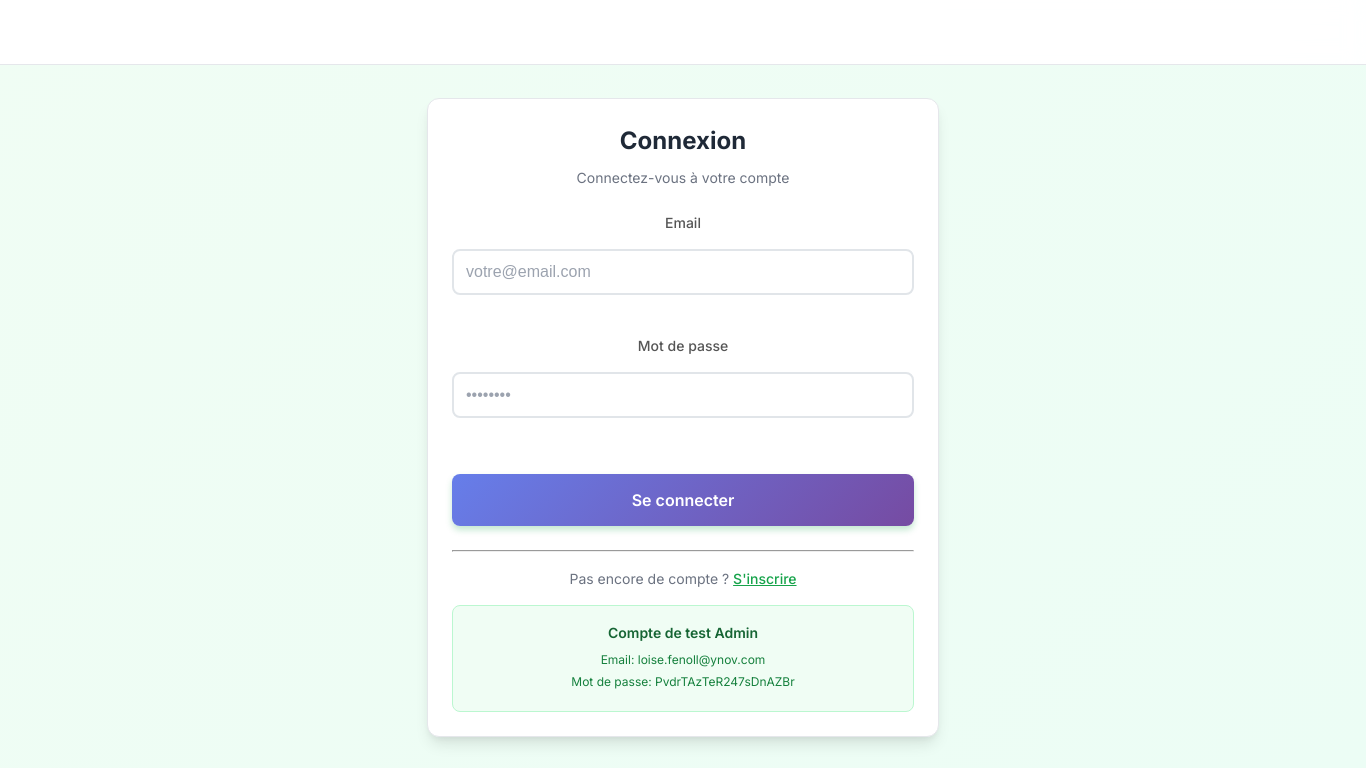
it: Tests d'authentification › Connexion › Devrait afficher une erreur avec des identifiants incorrects
This screenshot has width=1366, height=768.
In the field with id "login-email": {"x": 683, "y": 272} [452,249,914,295], type "wrong@email.com"
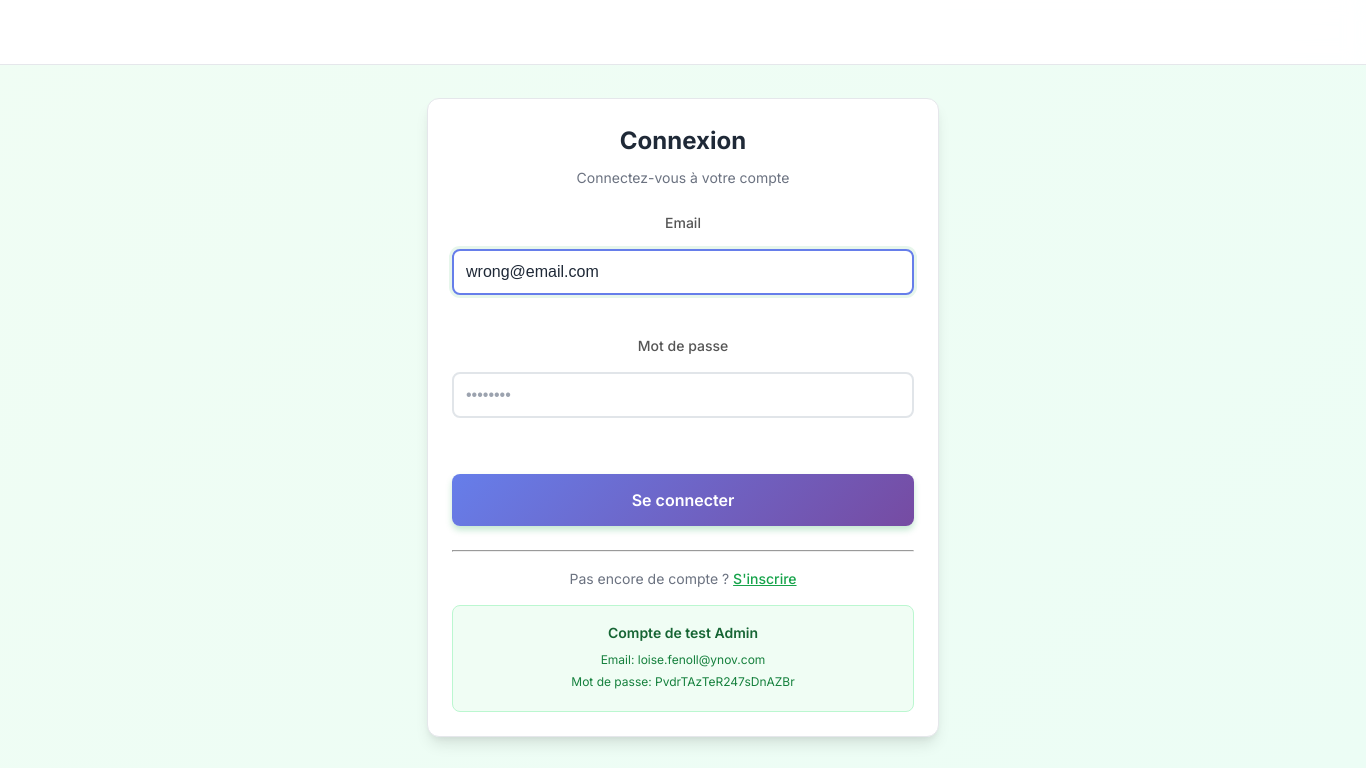
In the password field with id "login-password": {"x": 683, "y": 395} [452,372,914,418], type "wrongpassword"
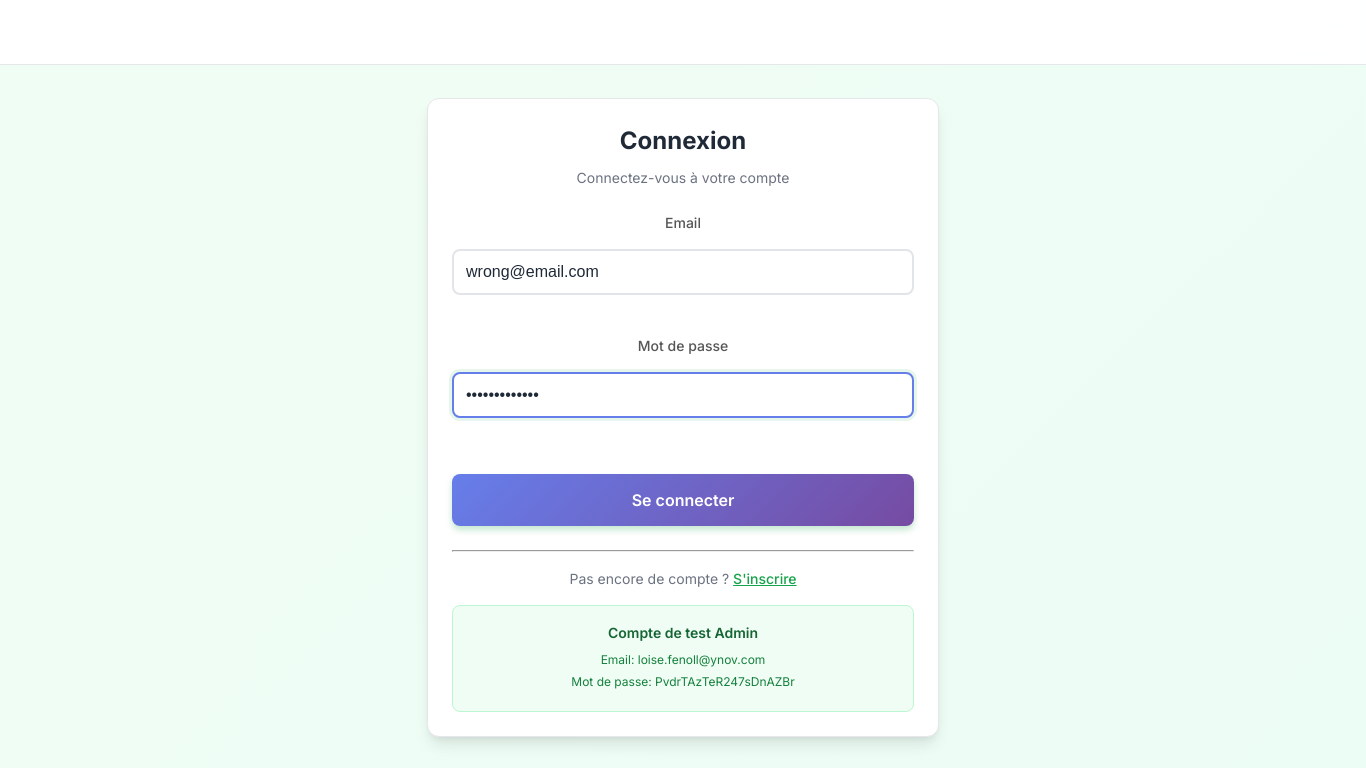
Click the submit button: {"x": 683, "y": 500} [452,474,914,526]
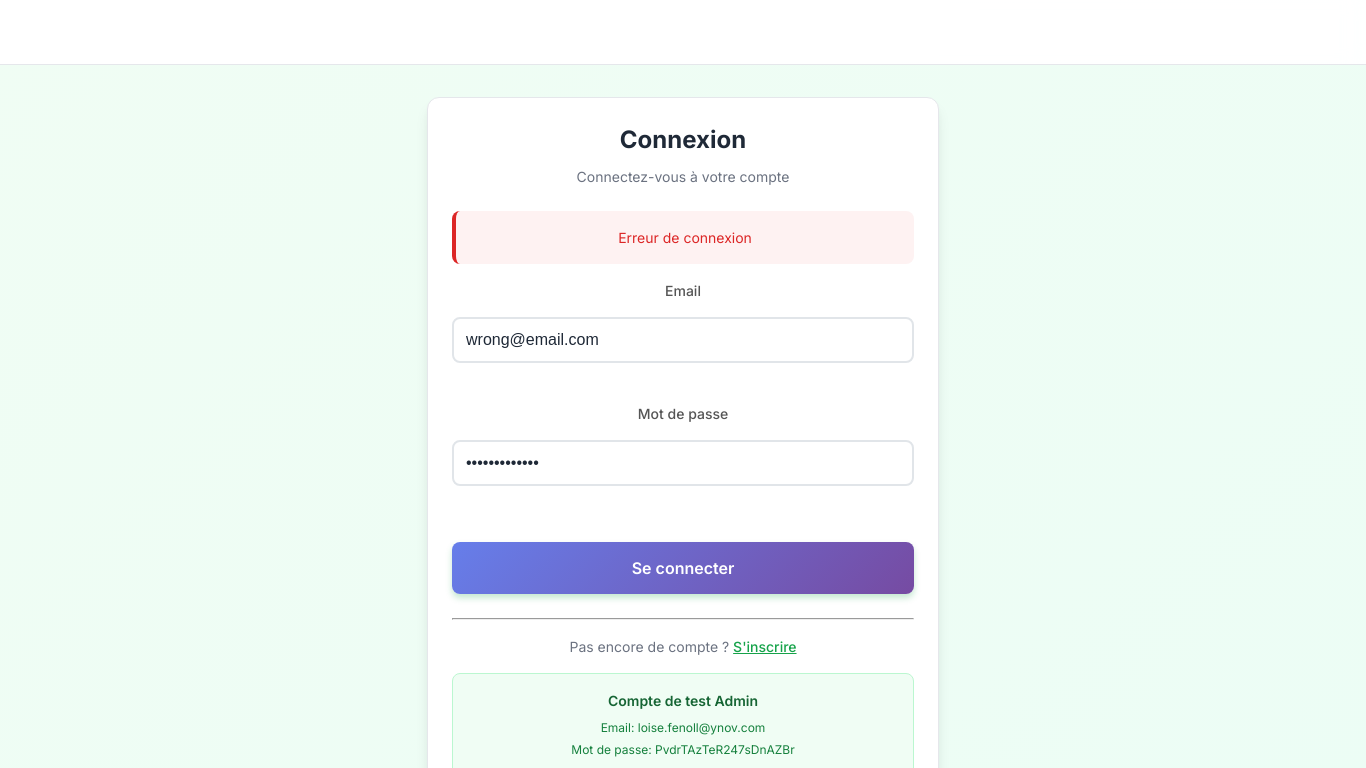
expect the element with class "error" is not empty: met
expect the text "Erreur de connexion" is shown: met, box [452,211,914,264]
